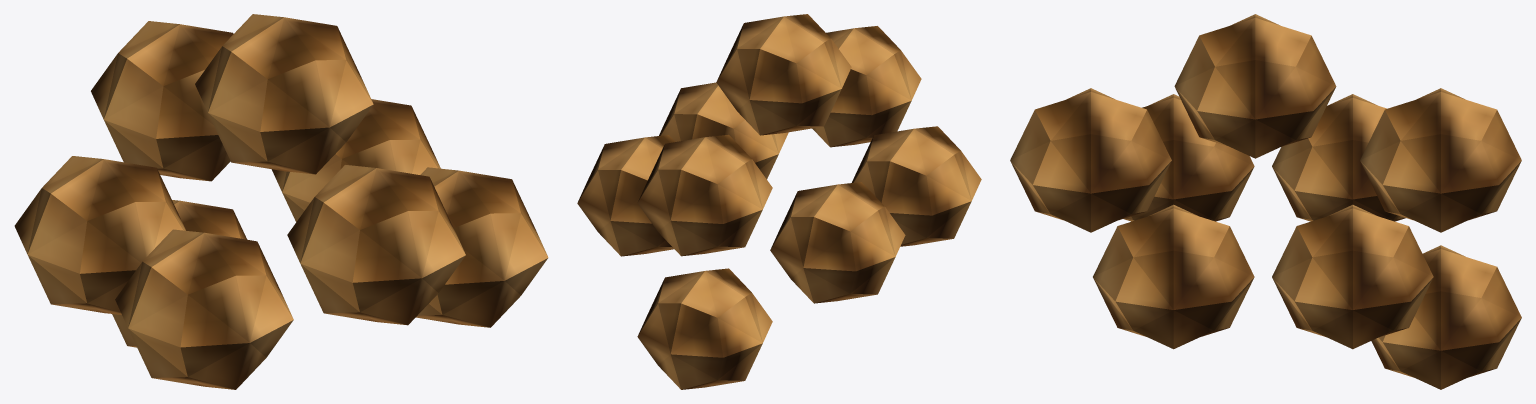
Rendered from hair_female_01.dae.
The picture shows the model from 3 angles, left to right: view 1: azimuth 30°, elevation 25°; view 2: azimuth 150°, elevation 25°; view 3: azimuth 270°, elevation 25°; orthographic projection. The views are drawn at different scales.
Visible parts, largest first — view 1: a_hair_female_01; view 2: a_hair_female_01; view 3: a_hair_female_01.
Part boxes in pixels (x1,y1,x2,y2): a_hair_female_01: [14, 14, 548, 389]; a_hair_female_01: [577, 14, 981, 389]; a_hair_female_01: [1010, 14, 1521, 389].
Size of the model in its own units: 0.6697 by 0.8185 by 0.65.
